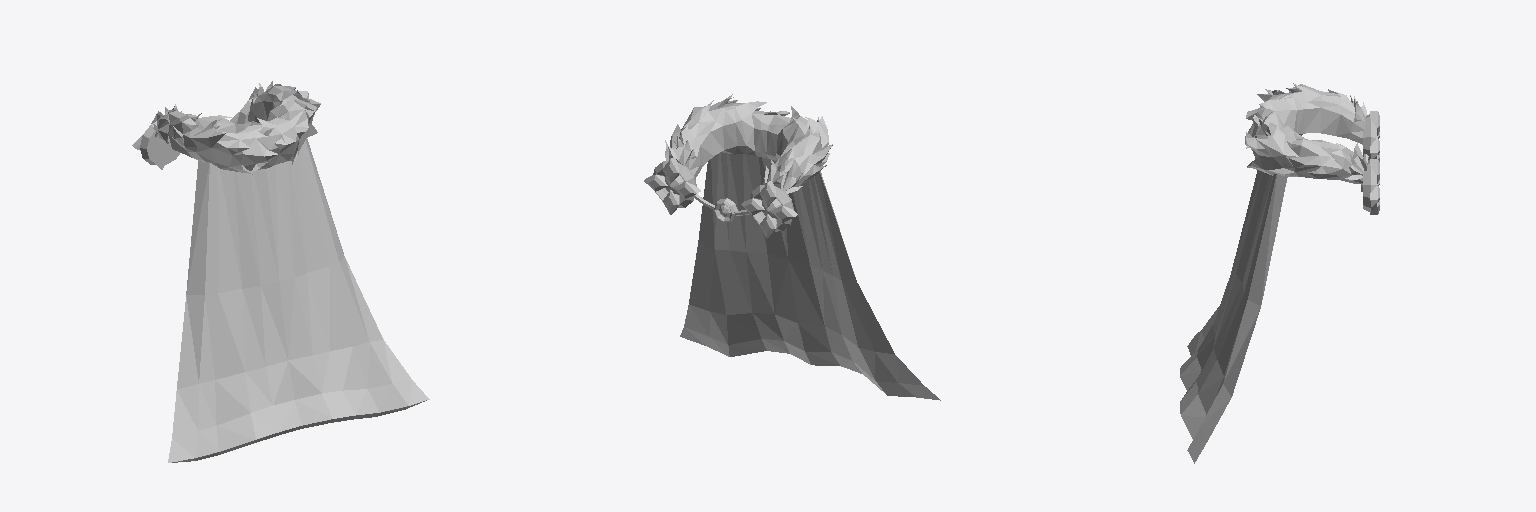
The model's file is Cape.obj.
3 views of the same model, side by side, from view 1: azimuth 30°, elevation 25°; view 2: azimuth 150°, elevation 25°; view 3: azimuth 270°, elevation 25° (orthographic).
Parts seen in each view (by area): view 1: cape; view 2: cape; view 3: cape.
Boxes of the visible parts, box(x1,y1,x2,y2) form: cape: box(132, 81, 429, 462); cape: box(644, 94, 940, 400); cape: box(1180, 83, 1379, 463).
Size of the model in its own units: 1.59 by 1.74 by 1.05.